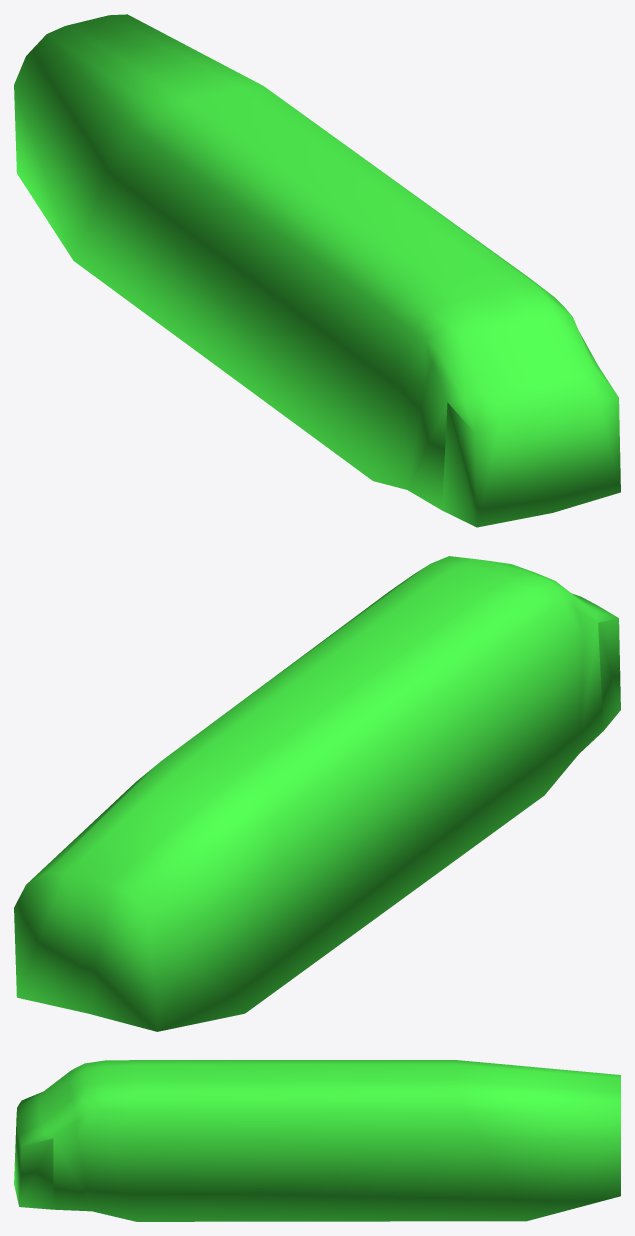
The model's file is KINGAIR_350I_interior_LOD4.gltf.
3 views of the same model, one above another, from view 1: azimuth 30°, elevation 25°; view 2: azimuth 150°, elevation 25°; view 3: azimuth 270°, elevation 25° (orthographic). The views are drawn at different scales.
Parts seen in each view (by area): view 1: OCCLUDER; view 2: OCCLUDER; view 3: OCCLUDER.
Boxes of the visible parts, x1=… form: OCCLUDER: x1=14, y1=14, x2=620, y2=527; OCCLUDER: x1=14, y1=556, x2=620, y2=1031; OCCLUDER: x1=14, y1=1060, x2=620, y2=1221.
Bounding box in the file's own units: 1.6 × 1.66 × 7.51.
